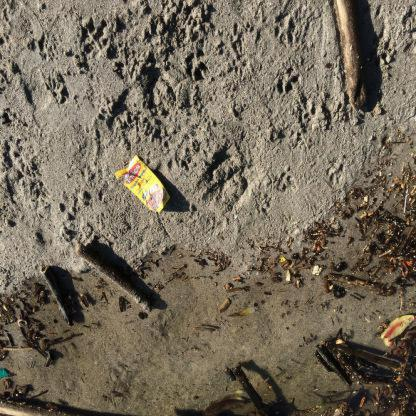Plastic bag - wrapper: (115, 155, 170, 212)
Styrofoam piece: (313, 265, 322, 275)
